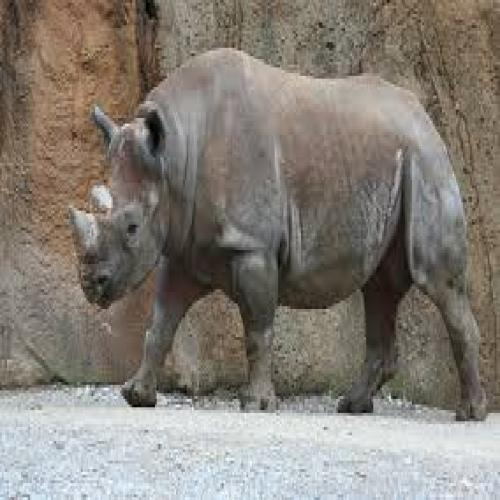rhino-endangered: (75, 55, 485, 424)
